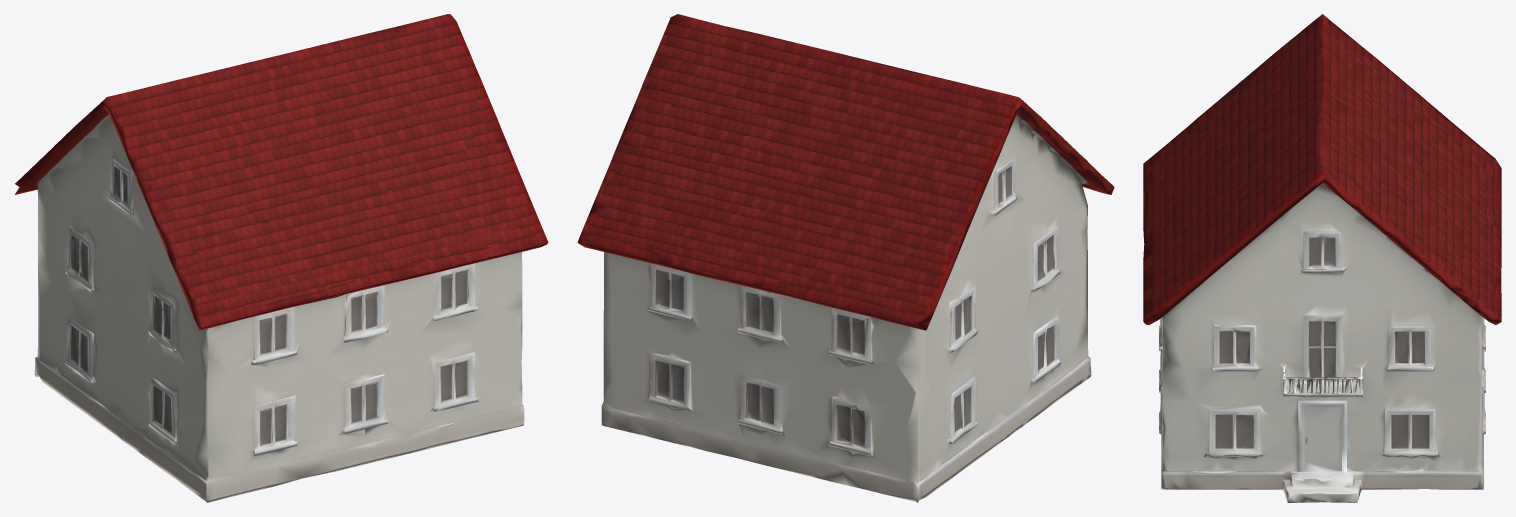
The model's file is plain_house_white_tripo.glb.
3 renders of one model, left to right at view 1: azimuth 30°, elevation 25°; view 2: azimuth 150°, elevation 25°; view 3: azimuth 270°, elevation 25°, orthographic. The views are drawn at different scales.
Visible parts, largest first — view 1: tripo_node_2316df93-e154-4cf4-af7c-0d45cd53c551; view 2: tripo_node_2316df93-e154-4cf4-af7c-0d45cd53c551; view 3: tripo_node_2316df93-e154-4cf4-af7c-0d45cd53c551.
Part boxes in pixels (<box>): tripo_node_2316df93-e154-4cf4-af7c-0d45cd53c551: <box>15,14,548,502</box>; tripo_node_2316df93-e154-4cf4-af7c-0d45cd53c551: <box>577,14,1114,502</box>; tripo_node_2316df93-e154-4cf4-af7c-0d45cd53c551: <box>1143,14,1501,502</box>.
Size of the model in its own units: 0.98 by 0.8988 by 0.9001.
1 material, 1 textured.
